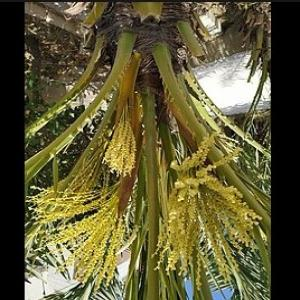palm tree: (23, 1, 270, 299)
